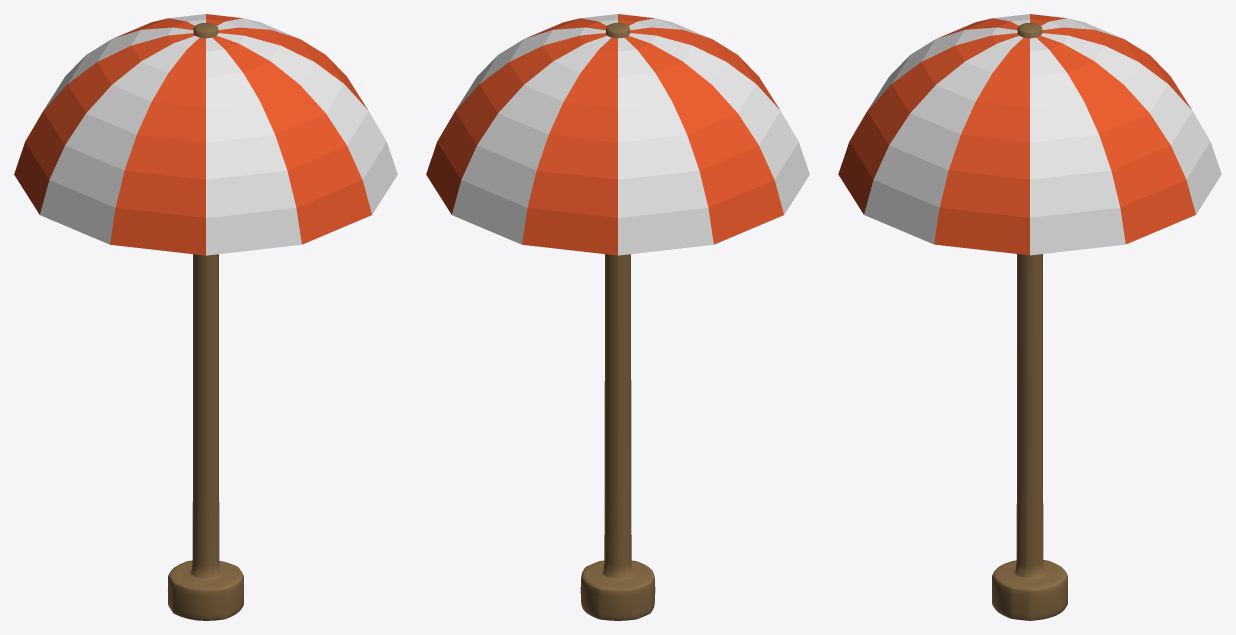
The model's file is BeachUmbrellaOrange.fbx.
The picture shows the model from 3 angles, left to right: view 1: azimuth 30°, elevation 25°; view 2: azimuth 150°, elevation 25°; view 3: azimuth 270°, elevation 25°; orthographic projection.
Visible parts, largest first — view 1: Sphere; view 2: Sphere; view 3: Sphere.
Part boxes in pixels (bbox=[...]): Sphere: bbox=[14, 14, 397, 620]; Sphere: bbox=[426, 14, 809, 620]; Sphere: bbox=[838, 14, 1221, 620].
Size of the model in its own units: 340 by 567 by 340.
